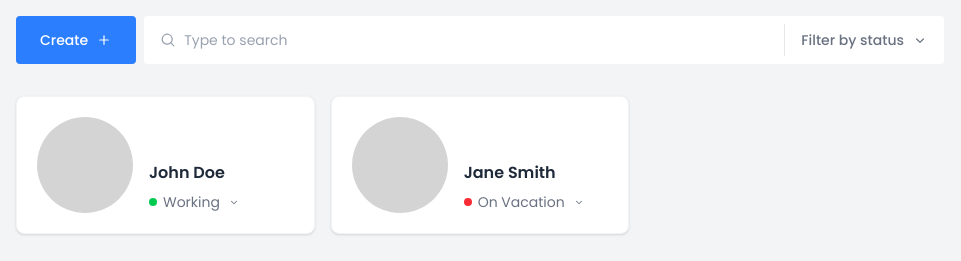
Test: EmployeesPanel › shows EmptyState when no employees match the filter
The width and height of the screenshot is (961, 261).
Type "xyz" into the field with placeholder "Type to search" at (476, 40), box [184,16,768,64]
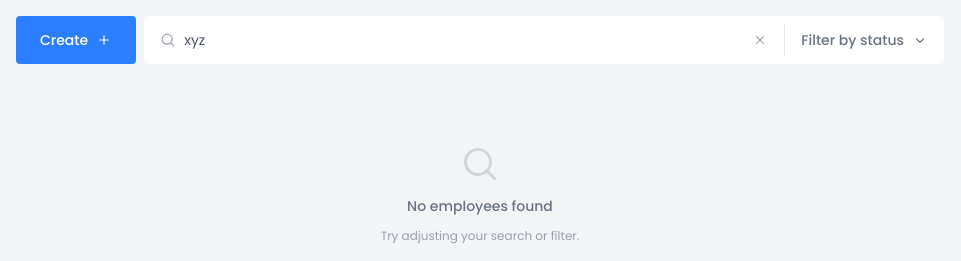
Check: the text "No employees found" is shown, box [407,196,553,216]
